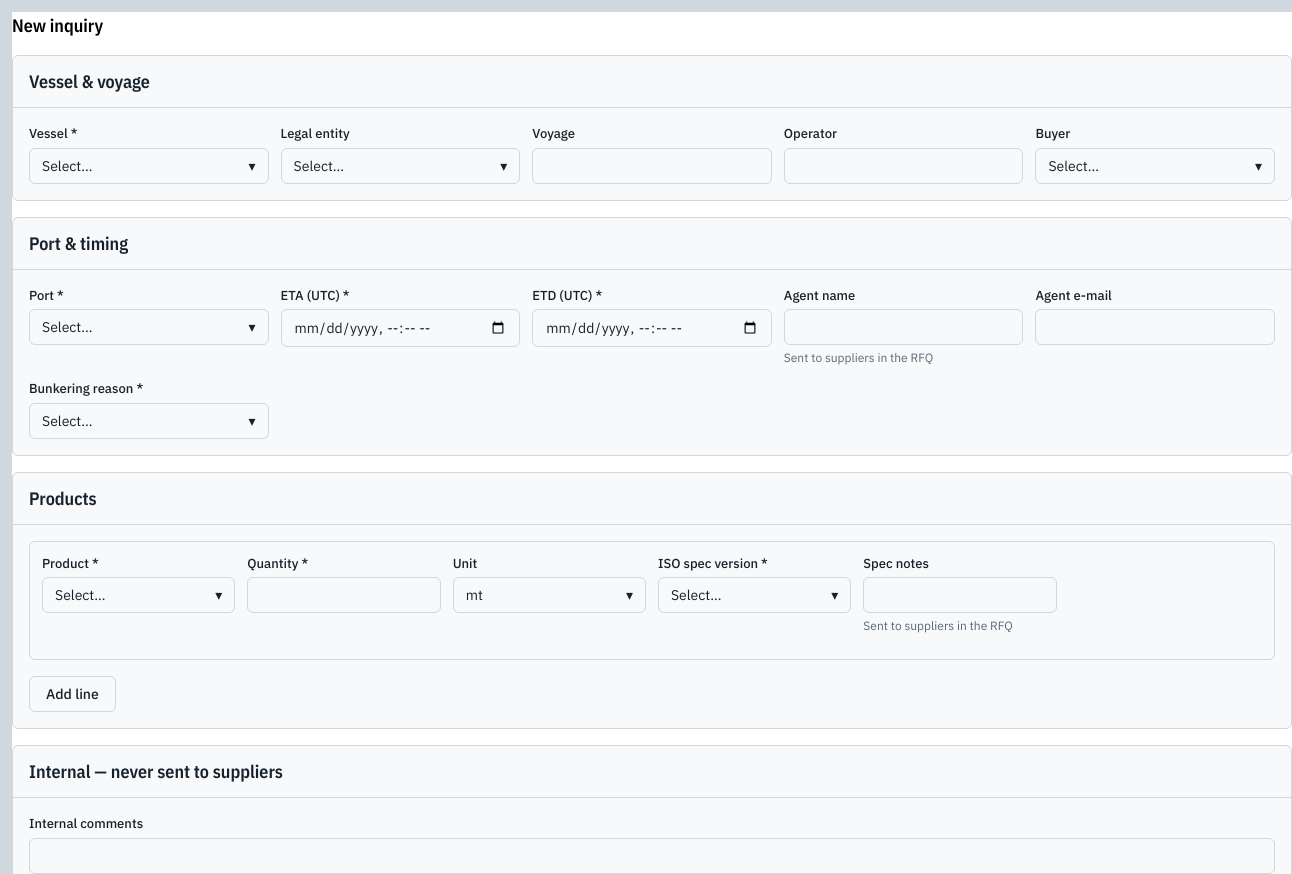
Test case: InquiryPage vessel selection › [B2-R13] choosing a vessel shows IMO, type and DWT and fills legal entity and operator
The image size is (1292, 874).
Click the dropdown named "Vessel".
click(149, 166)  # box top-left (29, 148), bottom-right (269, 184)
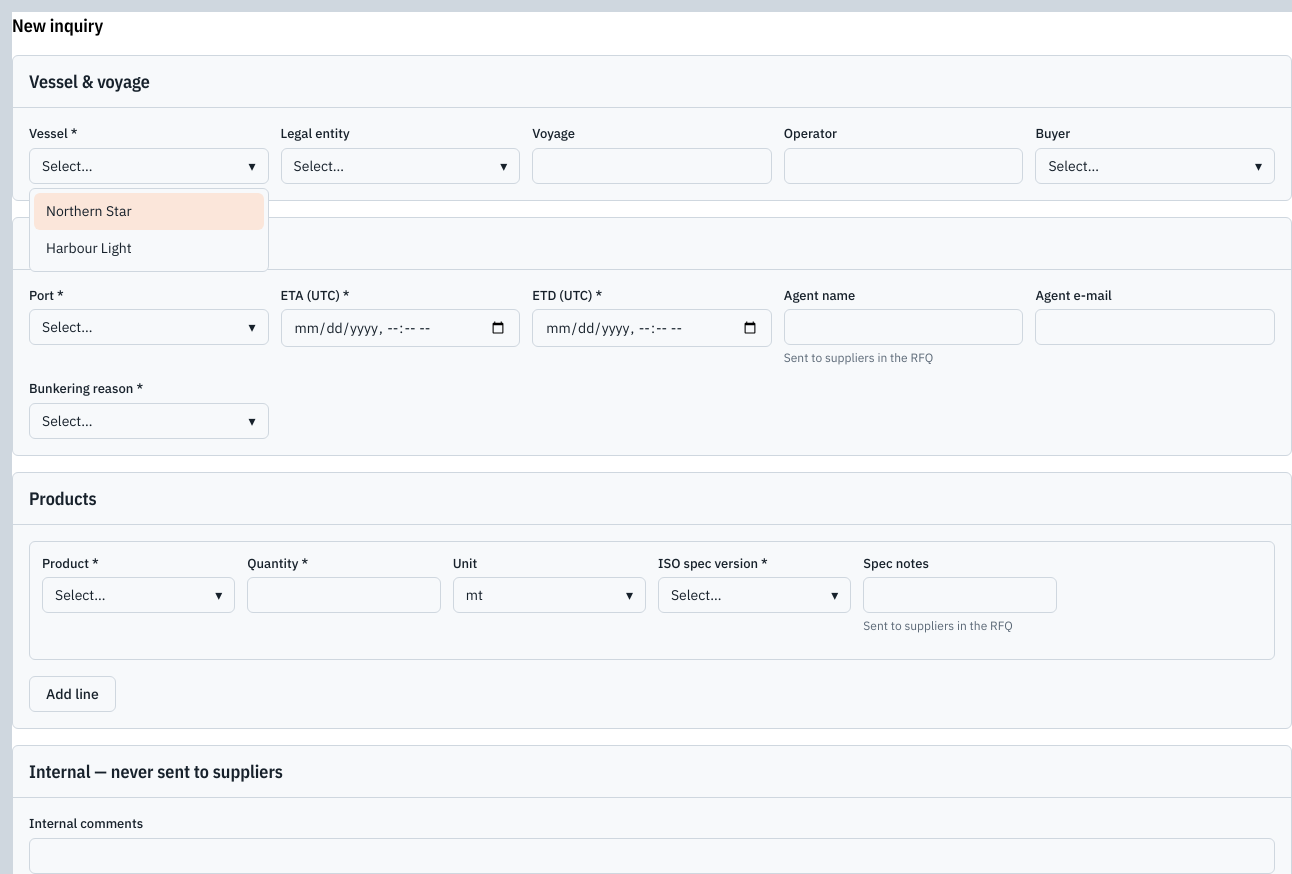
Click the option "Northern Star".
click(149, 212)  # box top-left (34, 193), bottom-right (264, 230)
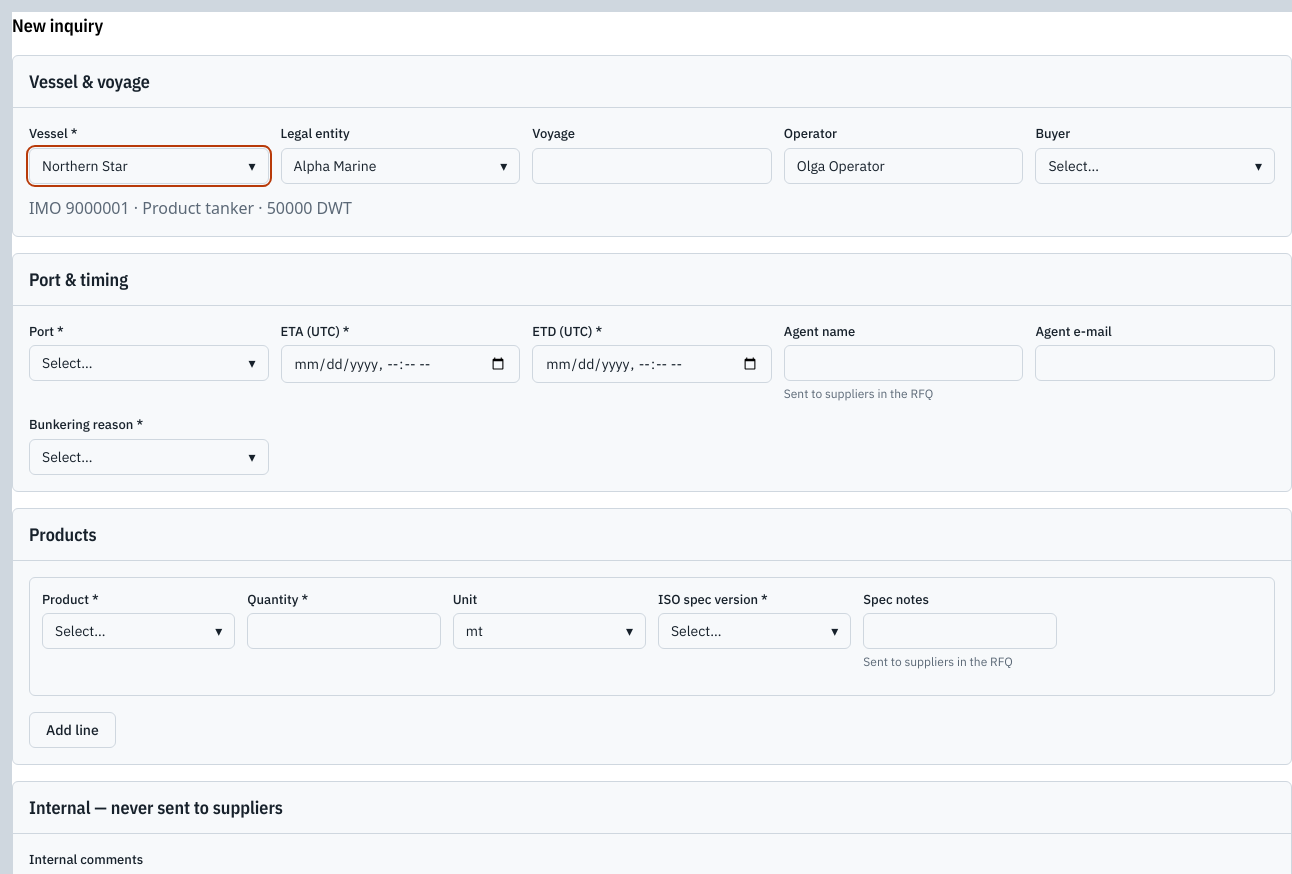
expect the text "IMO 9000001 · Product tanker · 50000 DWT" is shown: met, box top-left (29, 196), bottom-right (352, 218)
expect the dropdown named "Legal entity" shows "Alpha Marine": met, box top-left (281, 148), bottom-right (520, 184)
expect the field labelled "Operator" holds "Olga Operator": met, box top-left (784, 148), bottom-right (1023, 184)
